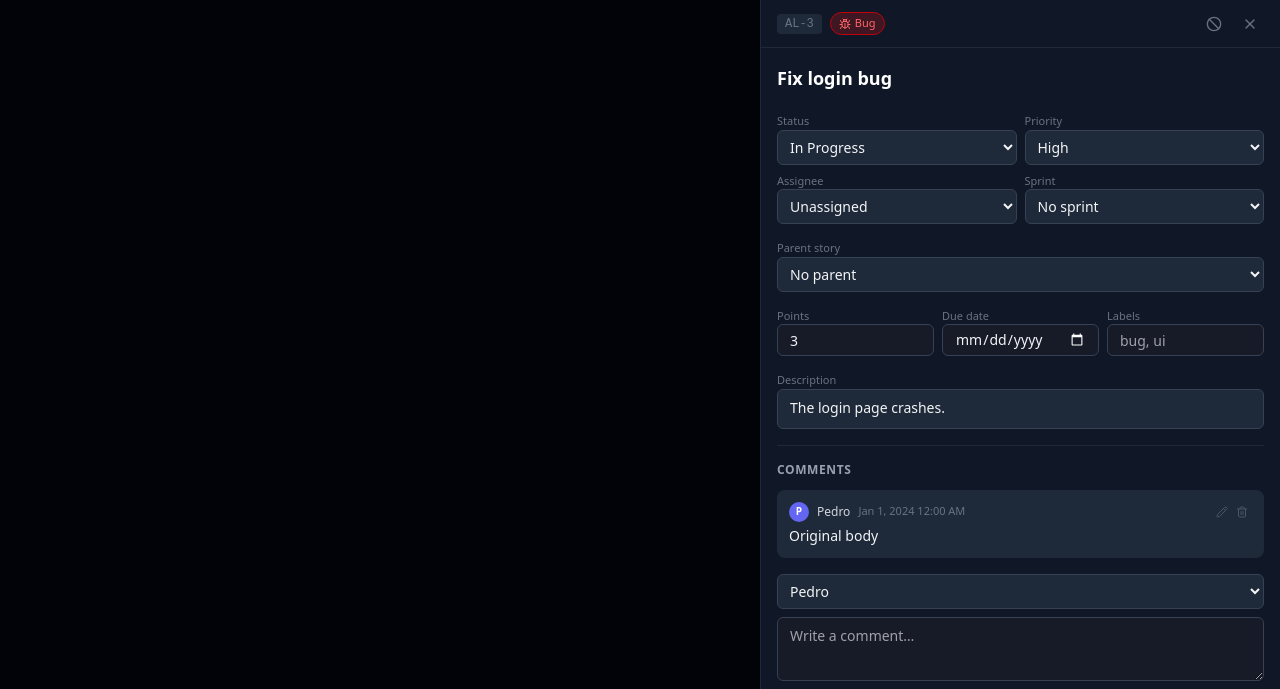
Scenario: CommentsSection — edit a comment (FB-46) › Cancel leaves the comment untouched
Click the button named "edit comment".
click(1222, 512)  # box x1=1212 y1=502 x2=1232 y2=522
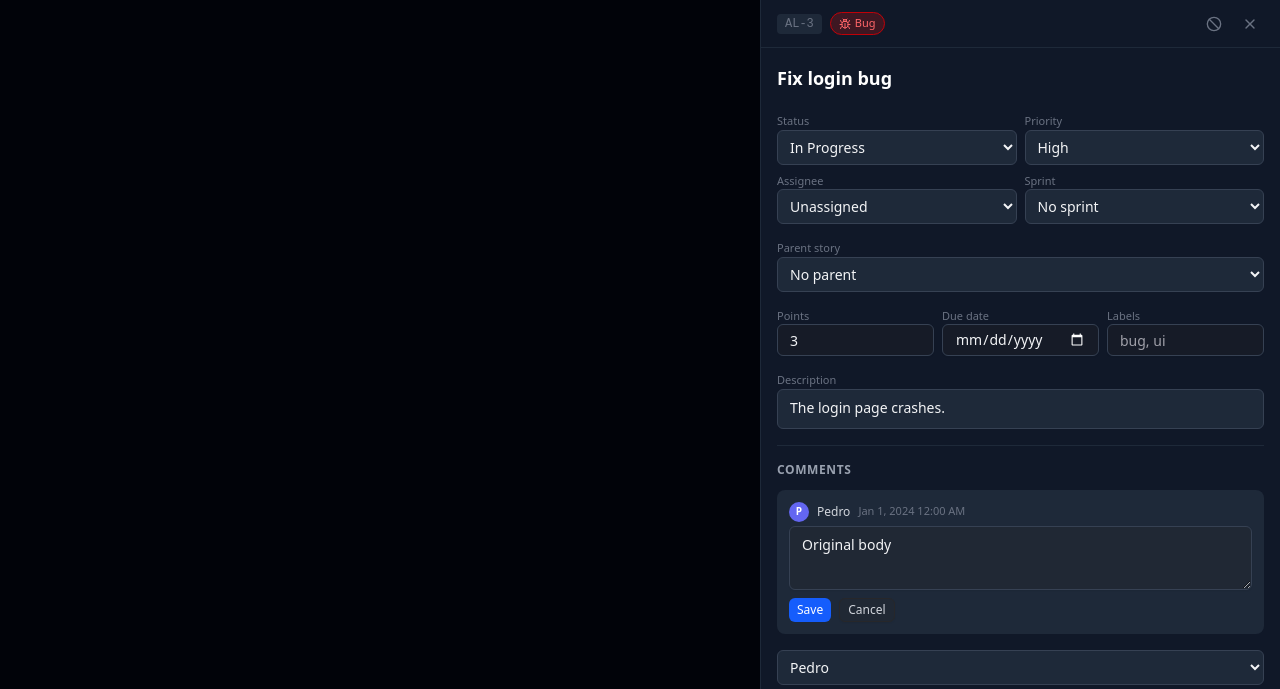
Replace the text in the text box named "edit comment body" with "Discarded" at (1020, 558), box x1=789 y1=526 x2=1252 y2=590
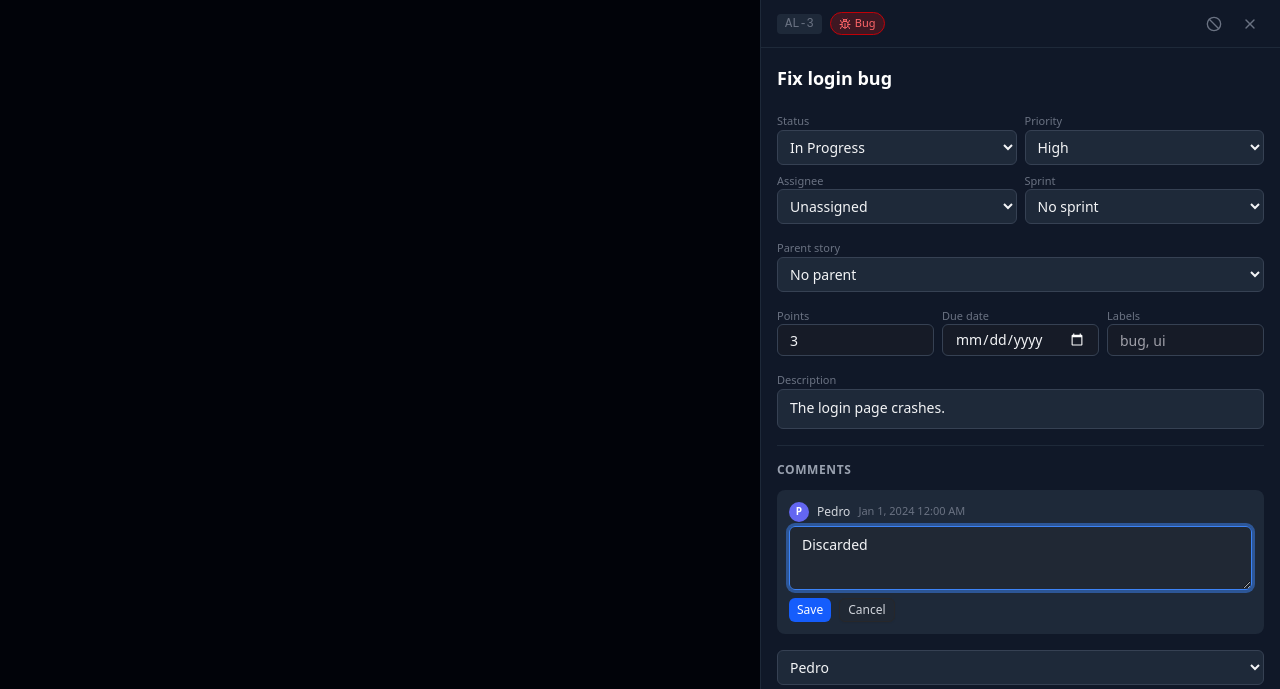
Click the button "Cancel".
click(867, 610)  # box x1=839 y1=598 x2=895 y2=622
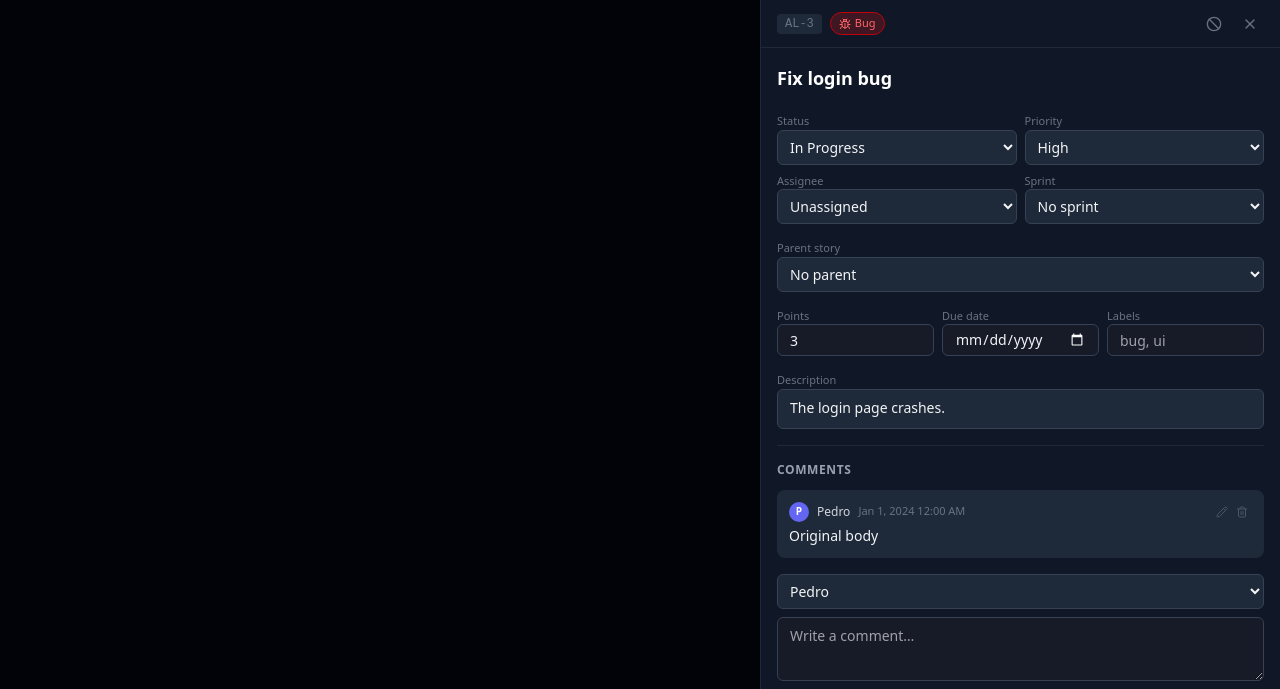
Expected: the text "Original body" is shown, x1=789 y1=526 x2=878 y2=544
